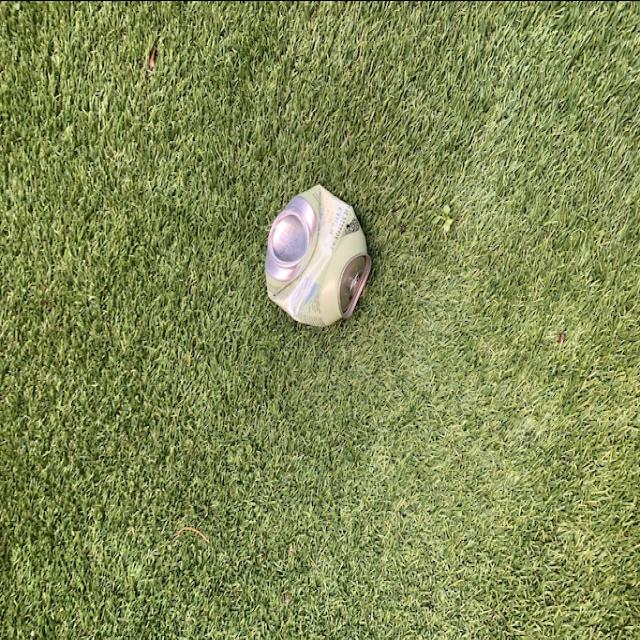Aluminum Can: (258, 183, 374, 335)
